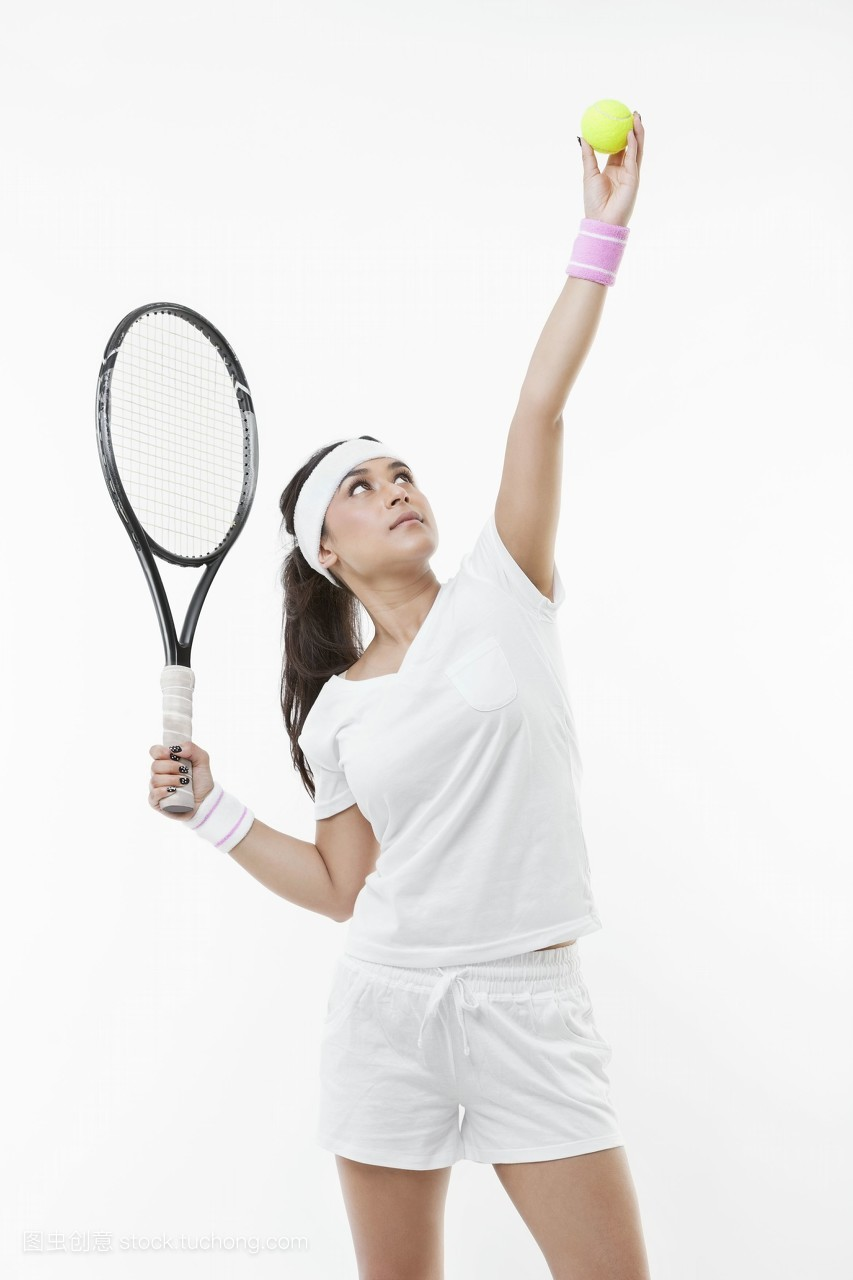handsup: (84, 84, 707, 1261)
